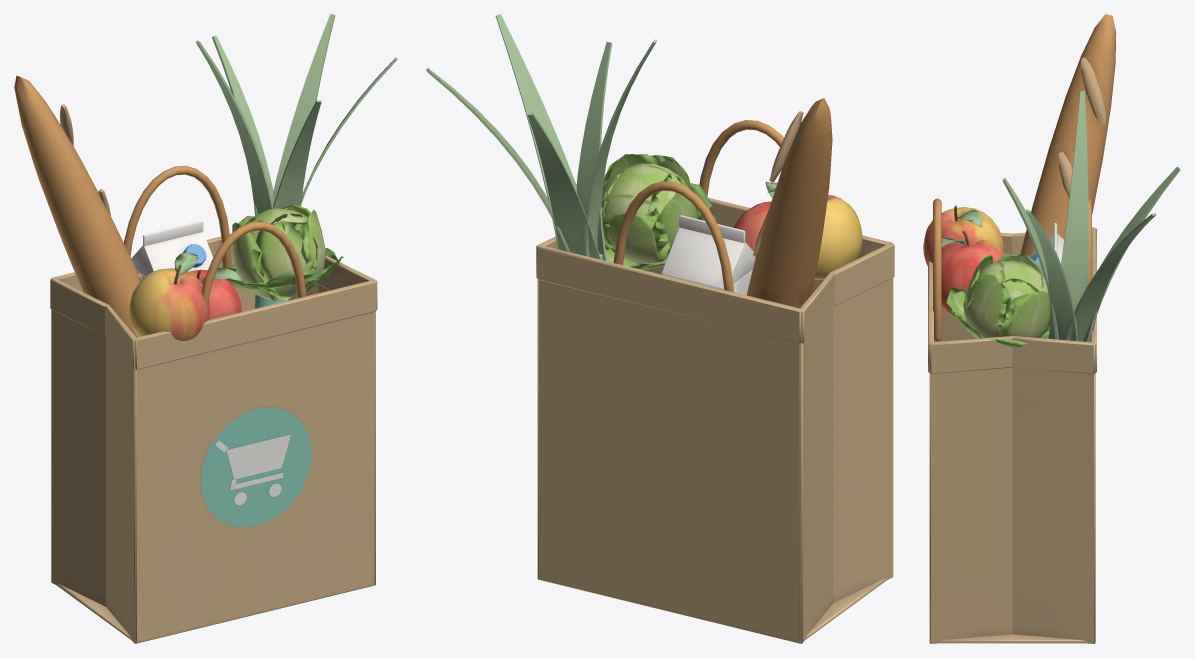
File: grocery-bag.fbx
3 renders of one model, left to right at view 1: azimuth 30°, elevation 25°; view 2: azimuth 150°, elevation 25°; view 3: azimuth 270°, elevation 25°, orthographic. The views are drawn at different scales.
Parts seen in each view (by area): view 1: grocery-bag_body; view 2: grocery-bag_body; view 3: grocery-bag_body.
Boxes of the visible parts, box(x1,y1,x2,y2) form: grocery-bag_body: box(14, 14, 397, 643); grocery-bag_body: box(426, 14, 894, 643); grocery-bag_body: box(923, 14, 1180, 643).
Bounding box in the file's own units: 0.4 × 0.5714 × 0.2637.
1 material, 1 textured.
